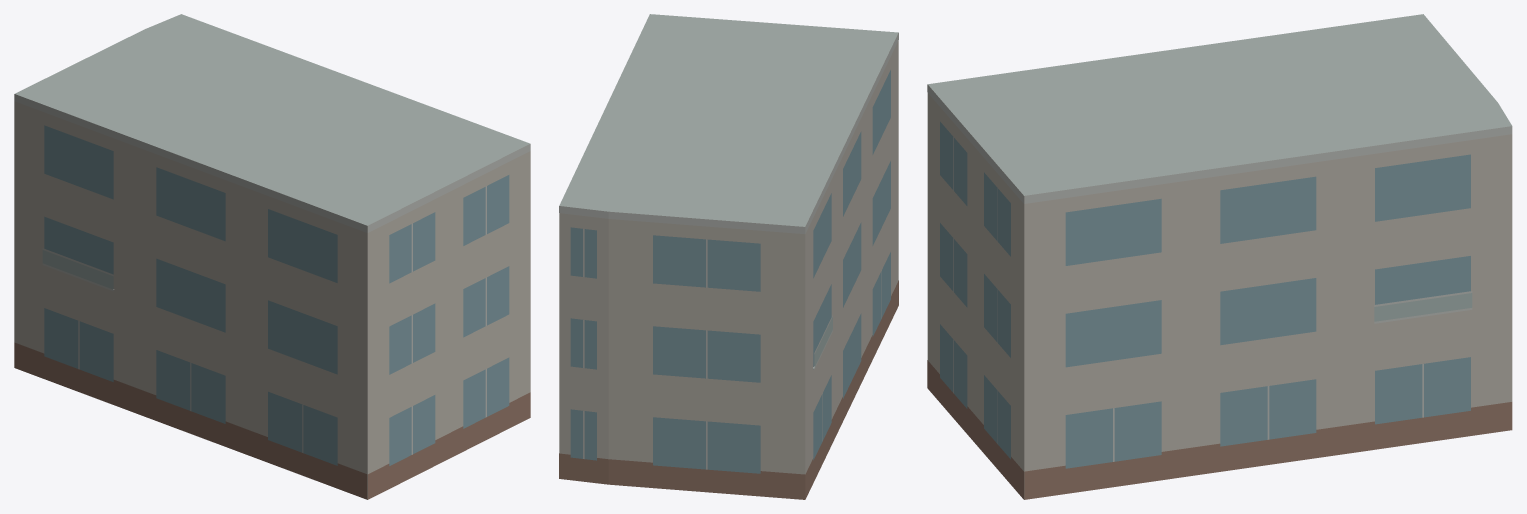
File: survey-upis-32608811.glb
3 renders of one model, left to right at view 1: azimuth 30°, elevation 25°; view 2: azimuth 150°, elevation 25°; view 3: azimuth 270°, elevation 25°, orthographic. The views are drawn at different scales.
Visible parts, largest first — view 1: survey-upis-32608811.tmp; view 2: survey-upis-32608811.tmp; view 3: survey-upis-32608811.tmp.
Part boxes in pixels (box(x1,y1,x2,y2)): survey-upis-32608811.tmp: box(14, 14, 530, 499); survey-upis-32608811.tmp: box(559, 14, 898, 499); survey-upis-32608811.tmp: box(927, 14, 1512, 499).
Size of the model in its own units: 11.75 by 9.15 by 15.97.
